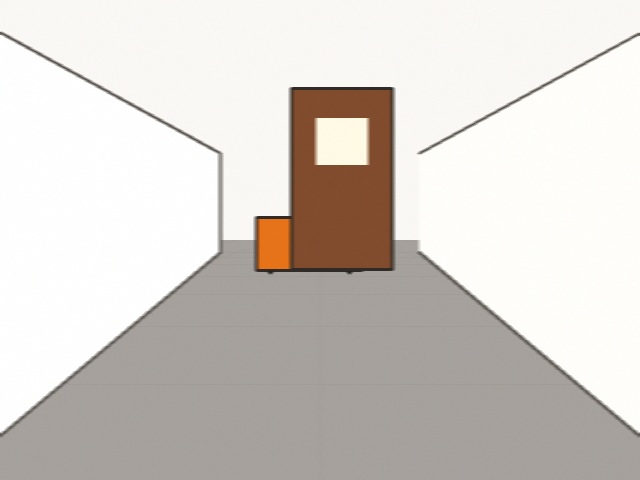cart: (256, 217, 362, 270)
door: (291, 88, 392, 269)
